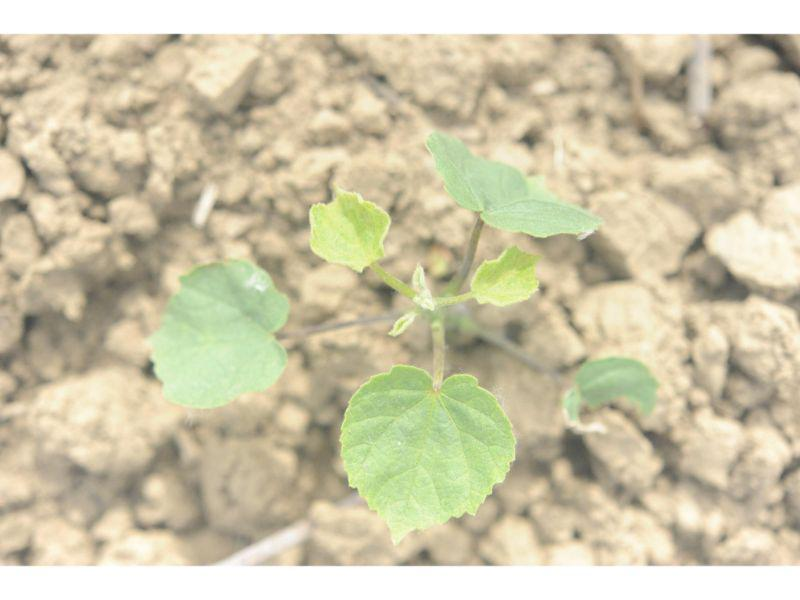velvet: (150, 129, 660, 543)
